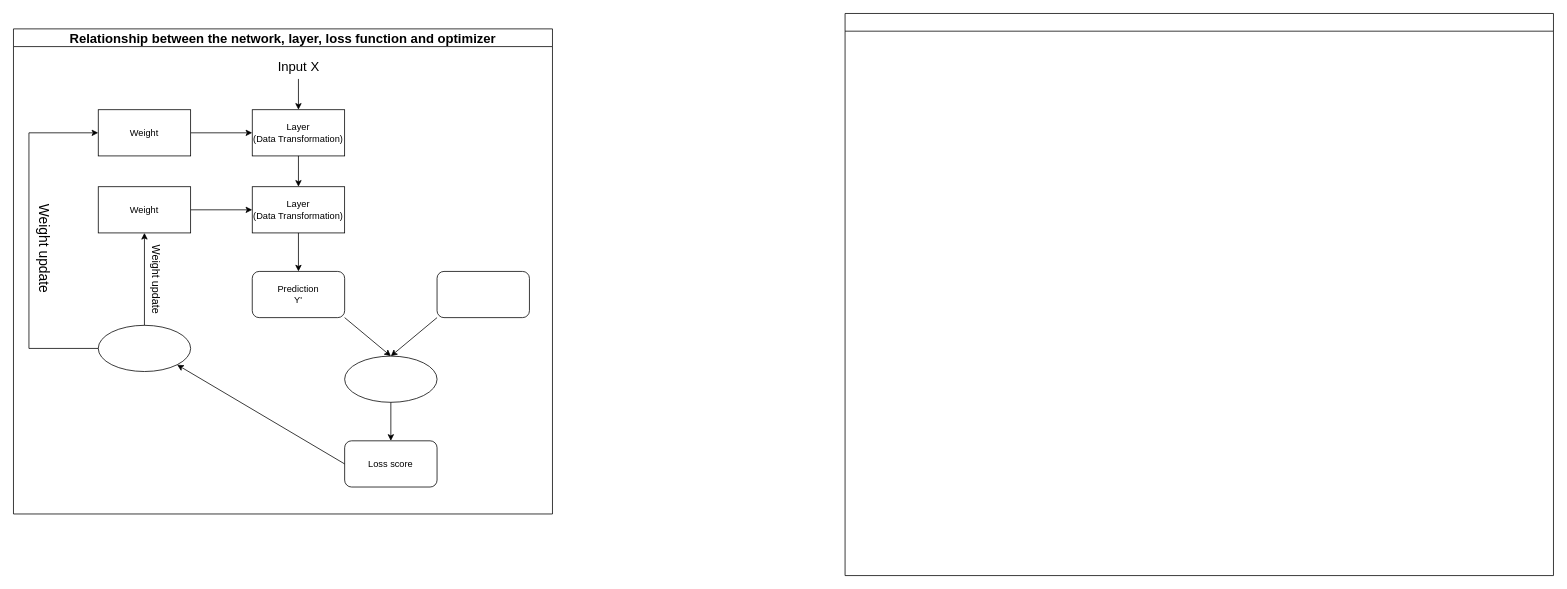
Image size: 1567x589. Some labels were removed from this diagram. The centre of each missing label's shape, as x and y in pixels:
"Loss Function" goes at pixel 390 378.
"Optimizer" goes at pixel 144 348.
"True target Y" goes at pixel 482 294.
"Vertical Container" goes at pixel 1198 294.
